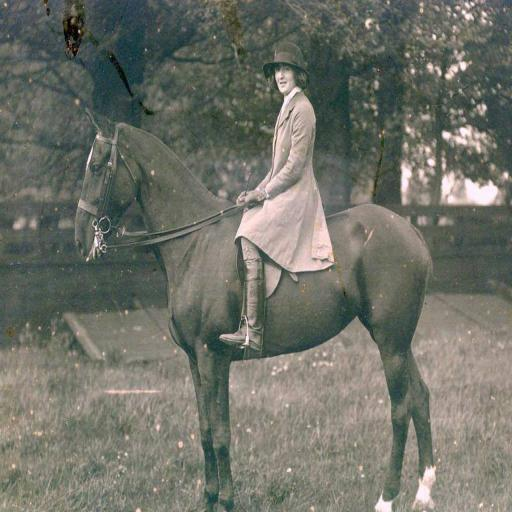horse: (72, 110, 436, 511)
